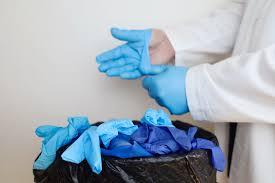Glove: (96, 28, 166, 78), (33, 117, 89, 169), (143, 66, 188, 114), (61, 126, 101, 173), (97, 119, 138, 148), (140, 109, 173, 126)
